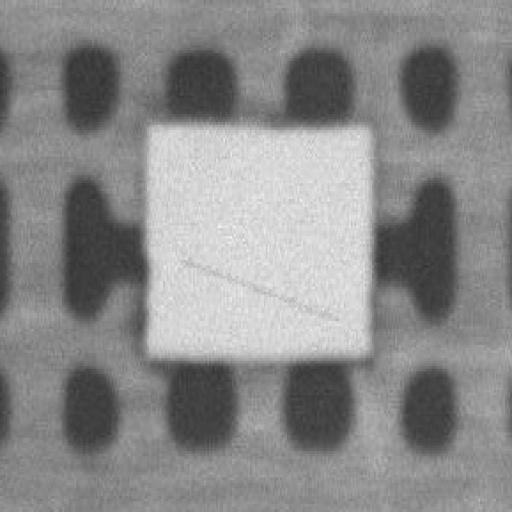DIE_CRACK: (270, 172, 502, 211)
